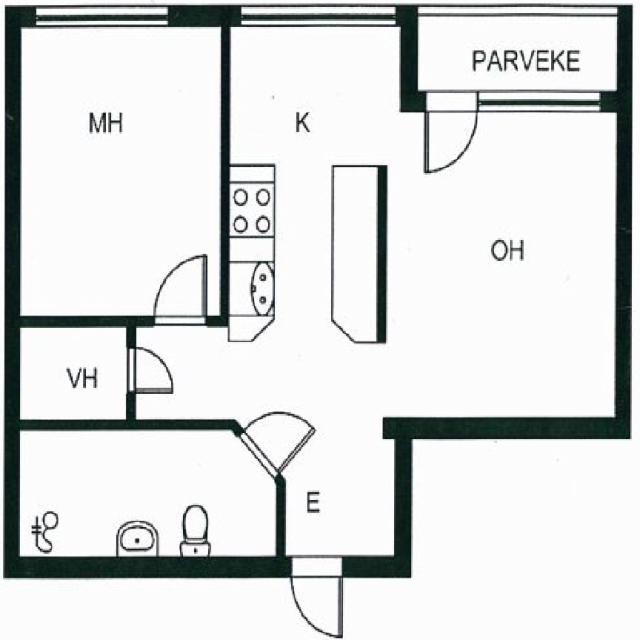door: (237, 387, 316, 479), (291, 556, 342, 638), (425, 92, 476, 172), (153, 254, 206, 326), (126, 347, 174, 393)
